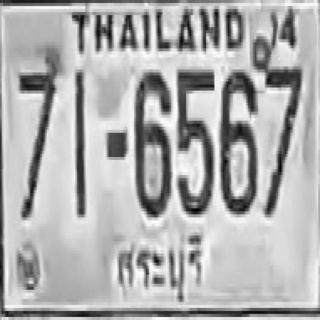N01: (73, 68, 85, 216)
N05: (176, 66, 213, 215)
N06: (219, 66, 255, 211), (134, 70, 169, 214)
N07: (17, 45, 62, 217), (262, 63, 301, 214)
P60: (109, 225, 208, 306)
